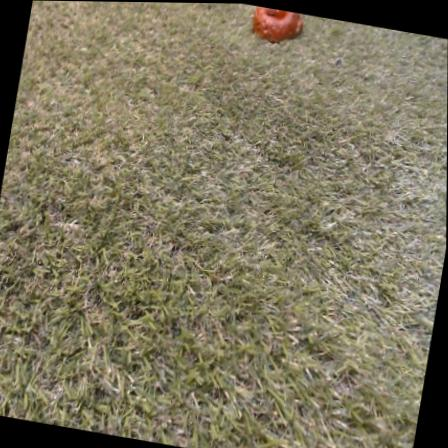dog-poop: (252, 5, 303, 42)
